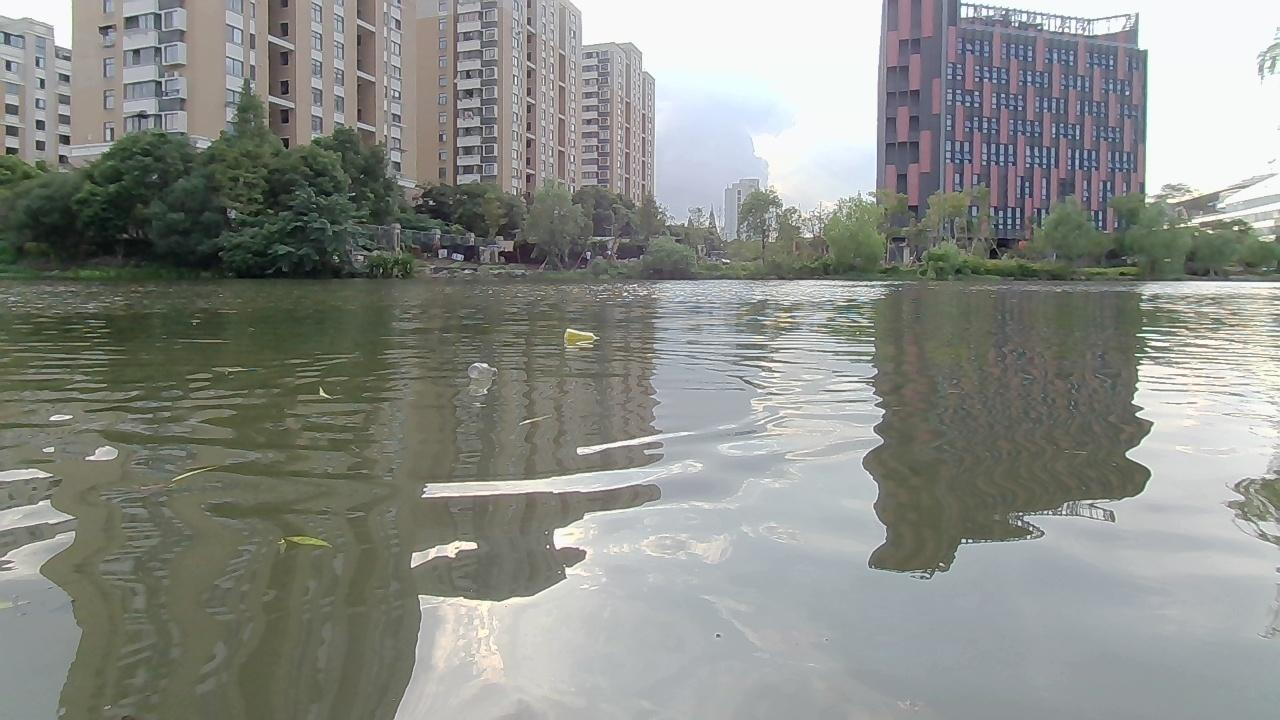bottle: (461, 362, 506, 387), (561, 327, 600, 352)
